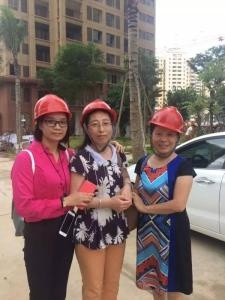red: (32, 93, 70, 146), (148, 103, 184, 156), (79, 99, 117, 147)
